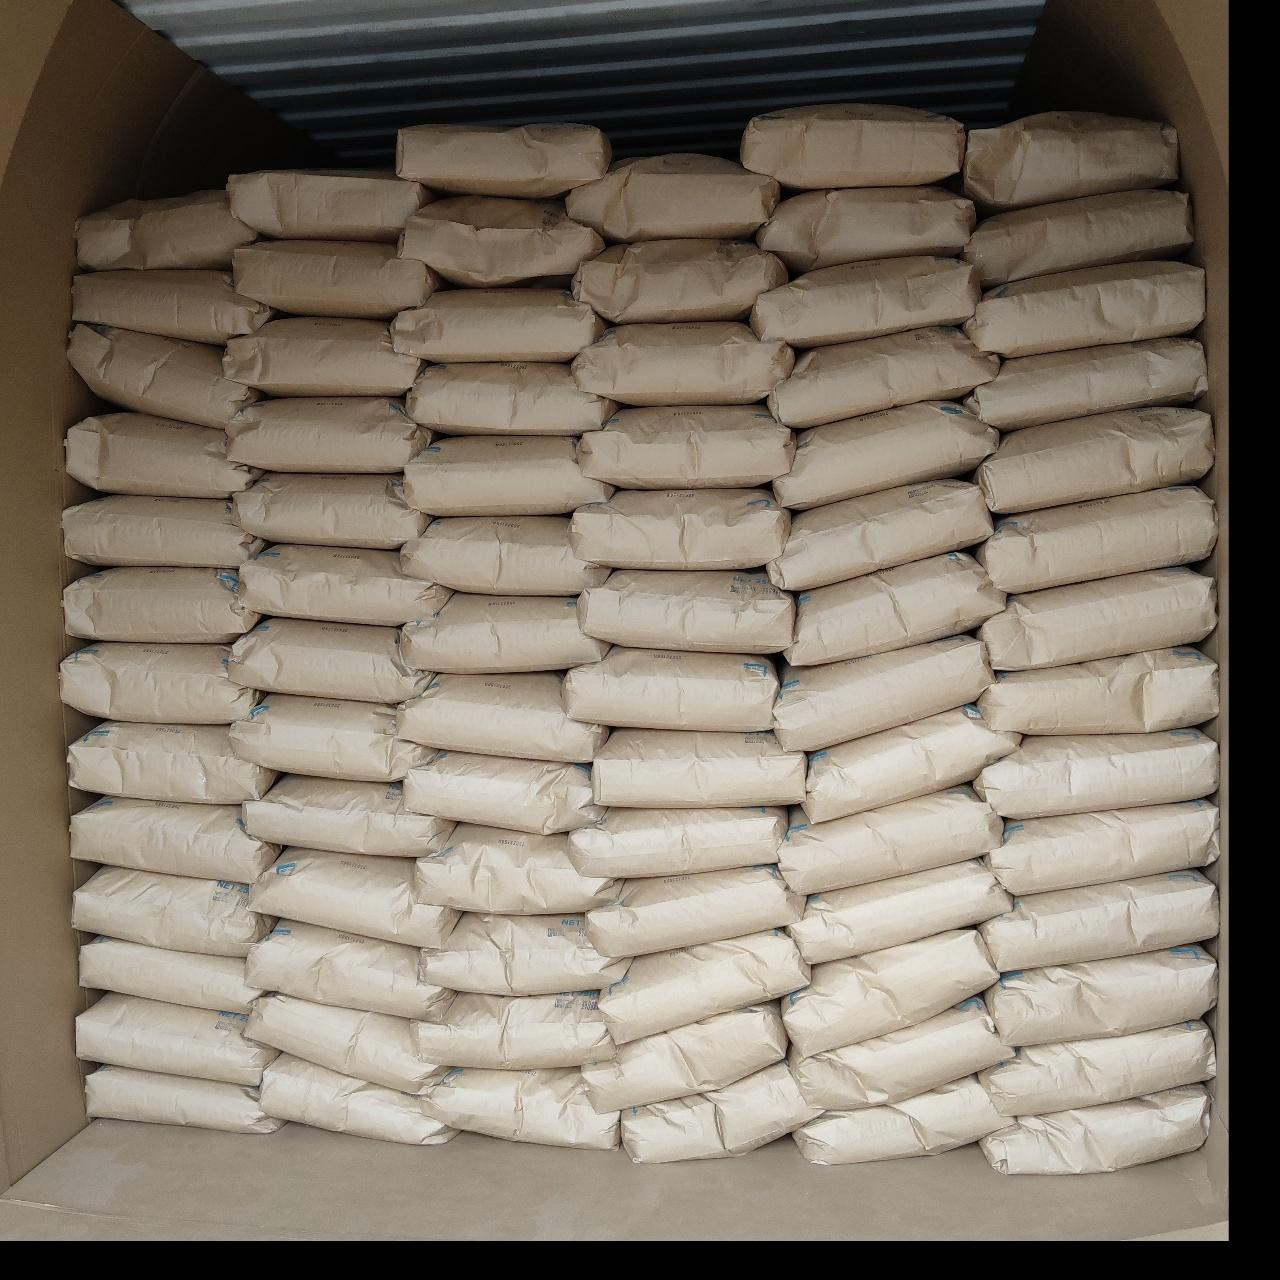sack: (784, 930, 996, 1054), (792, 998, 1012, 1110), (774, 636, 990, 750), (804, 708, 1020, 822), (980, 486, 1216, 590), (768, 481, 990, 590), (976, 408, 1212, 510), (787, 552, 1005, 662), (774, 402, 998, 508), (779, 787, 998, 894), (980, 872, 1218, 971), (980, 570, 1214, 668), (600, 930, 808, 1040), (986, 946, 1214, 1046), (770, 326, 998, 425), (788, 862, 1010, 962), (966, 263, 1204, 356), (988, 799, 1220, 894), (966, 338, 1204, 430), (964, 190, 1190, 286), (584, 1005, 787, 1110), (976, 728, 1218, 813), (964, 113, 1176, 210), (980, 1022, 1214, 1110), (980, 646, 1218, 731), (250, 847, 456, 946), (980, 1085, 1206, 1175), (68, 324, 260, 428), (753, 258, 980, 346), (248, 922, 452, 1020), (244, 996, 448, 1092), (622, 1062, 818, 1160), (586, 869, 804, 956), (400, 196, 602, 286), (794, 1078, 1010, 1162), (744, 105, 964, 188), (758, 186, 974, 270), (74, 866, 272, 956), (79, 994, 275, 1084), (574, 322, 790, 404), (572, 240, 788, 322), (399, 674, 606, 758), (258, 1054, 456, 1142), (580, 570, 792, 652), (578, 406, 792, 486), (568, 156, 779, 238), (566, 648, 778, 728), (230, 696, 433, 779), (416, 826, 617, 910), (241, 776, 454, 855), (229, 620, 430, 702), (70, 798, 278, 878), (402, 436, 612, 515), (572, 490, 788, 566), (70, 722, 275, 802), (592, 730, 804, 806), (422, 914, 628, 992), (420, 1068, 618, 1148), (66, 411, 258, 493), (240, 546, 445, 622), (234, 240, 440, 316), (399, 122, 610, 196), (402, 594, 606, 670), (402, 518, 606, 594), (62, 644, 258, 722), (404, 753, 600, 830), (224, 318, 422, 394), (392, 288, 606, 358), (414, 994, 614, 1068), (570, 808, 787, 876), (232, 474, 428, 549), (229, 399, 433, 470), (72, 270, 272, 342), (408, 365, 617, 434), (76, 190, 256, 270), (64, 496, 263, 566), (230, 170, 433, 238), (64, 568, 256, 640), (82, 938, 263, 1012), (86, 1065, 278, 1132)
